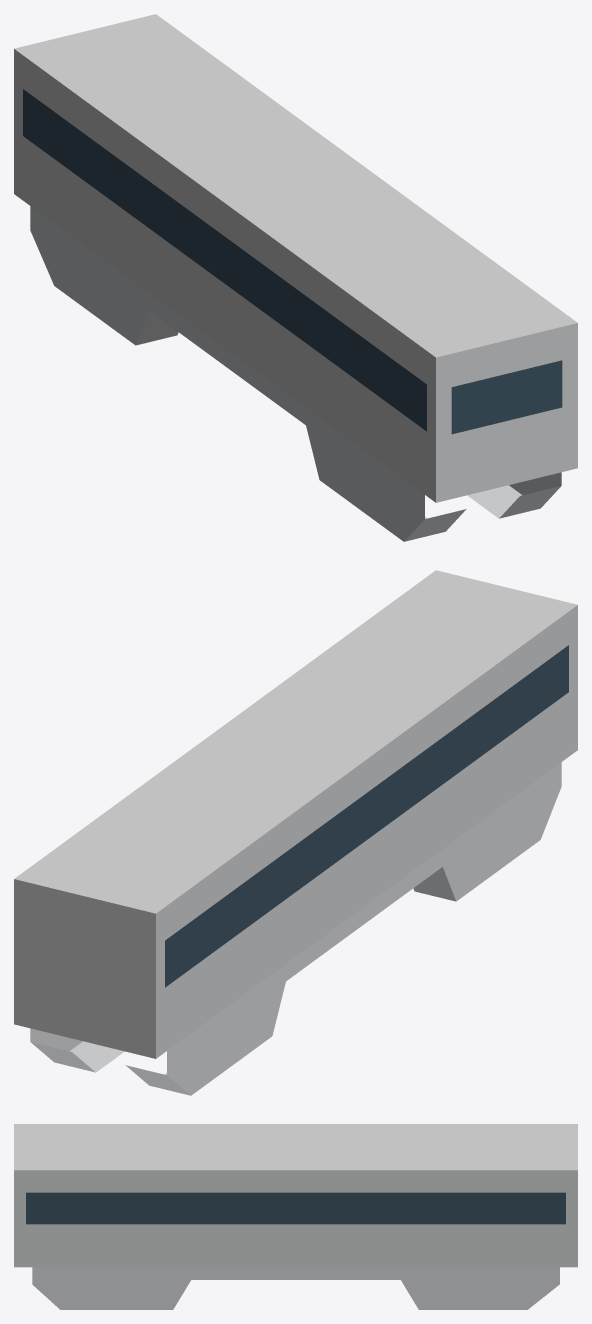
Rendered from 309_far.fbx.
3 renders of one model, top to bottom at view 1: azimuth 30°, elevation 25°; view 2: azimuth 150°, elevation 25°; view 3: azimuth 270°, elevation 25°, orthographic. The views are drawn at different scales.
Parts seen in each view (by area): view 1: 309_far; view 2: 309_far; view 3: 309_far.
Part boxes in pixels (x1,y1,x2,y2): 309_far: (14,14,577,541); 309_far: (14,570,577,1095); 309_far: (14,1124,577,1309).
Bounding box in the file's own units: 2.72 × 3.85 × 14.
